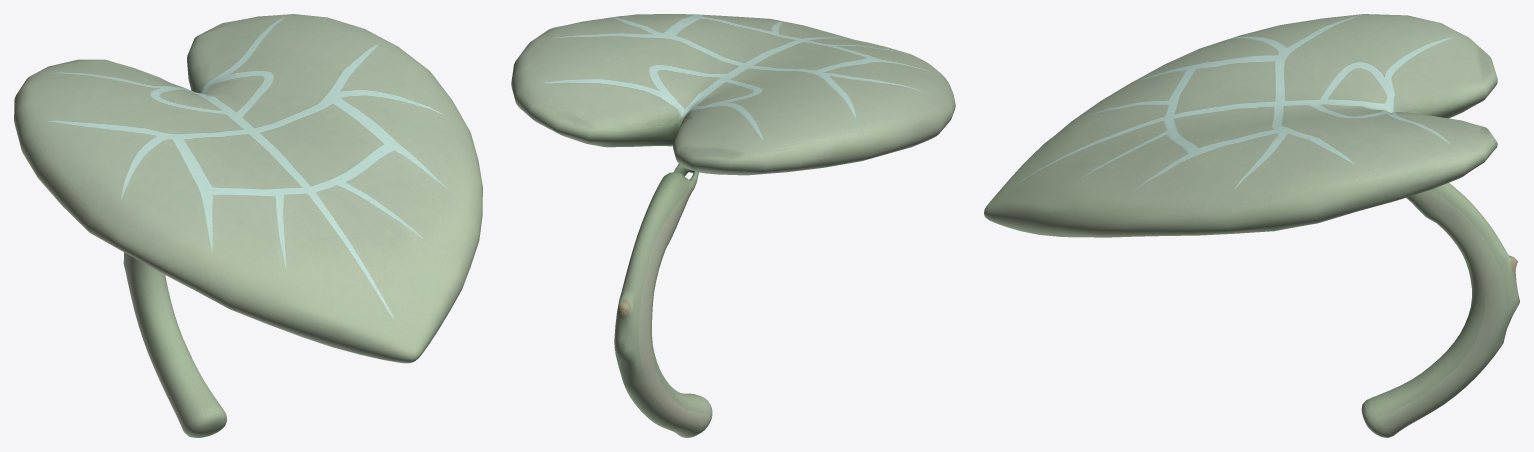
Rendered from pothos_cream_vein_v2.glb.
3 views of the same model, side by side, from view 1: azimuth 30°, elevation 25°; view 2: azimuth 150°, elevation 25°; view 3: azimuth 270°, elevation 25° (orthographic). The views are drawn at different scales.
Visible parts, largest first — view 1: world; view 2: world; view 3: world.
Boxes of the visible parts, bbox=[...] form: world: bbox=[14, 14, 482, 437]; world: bbox=[511, 14, 955, 437]; world: bbox=[984, 14, 1519, 437].
Bounding box in the file's own units: 1.59 × 1.45 × 2.
1 material, 1 textured.
